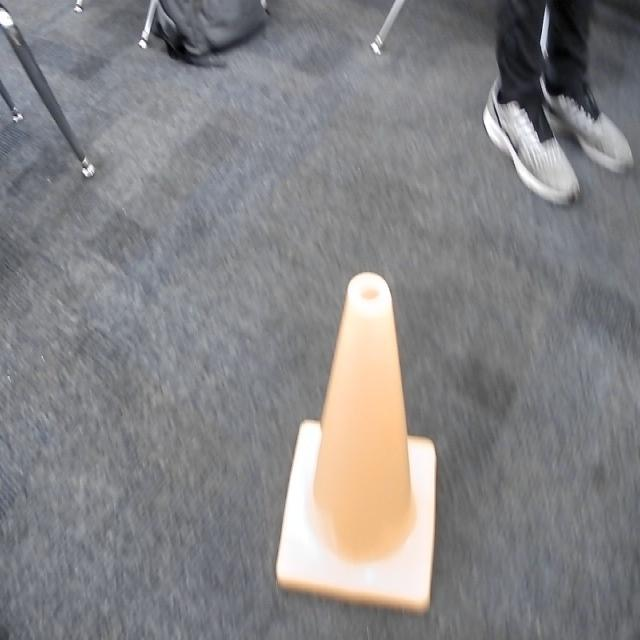cone: (272, 265, 442, 621)
